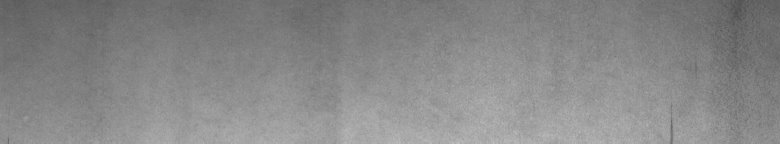ka: (668, 11, 740, 136)
